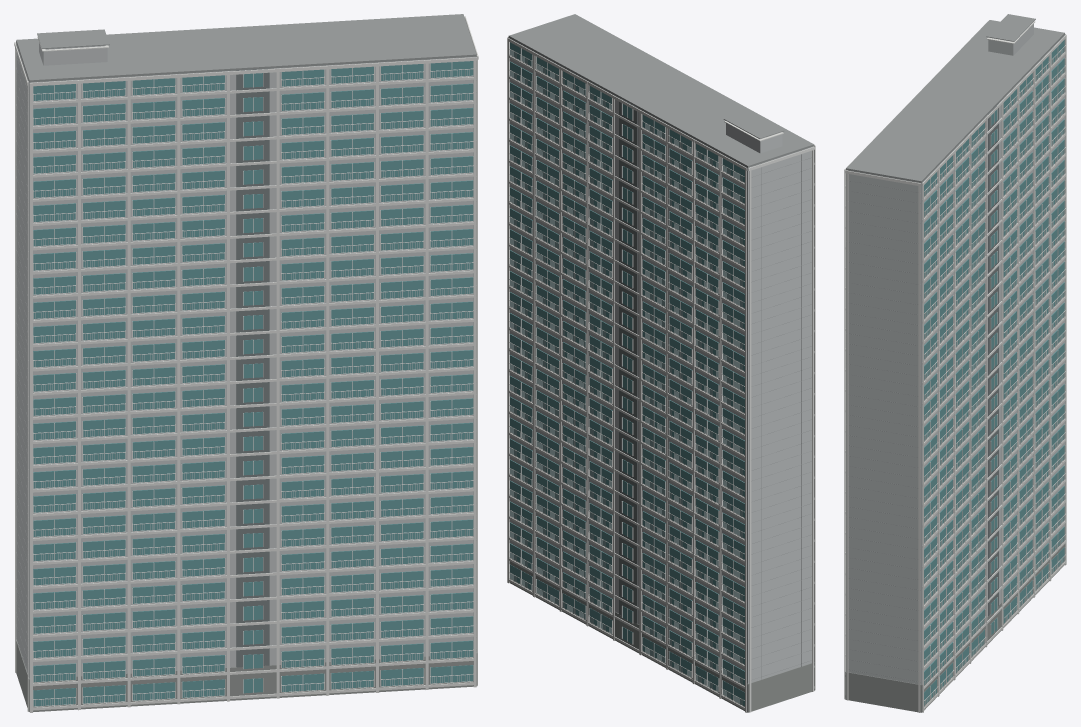
The model's file is bespoke-jamsil-ricenz-231.glb.
3 views of the same model, side by side, from view 1: azimuth 30°, elevation 25°; view 2: azimuth 150°, elevation 25°; view 3: azimuth 270°, elevation 25° (orthographic). The views are drawn at different scales.
Visible parts, largest first — view 1: Ricenz231_editable_Ricenz231_turquoise_balcony_glazing, Ricenz231_editable_Ricenz231_light_grey_solid_wall, Ricenz231_white_exact_chunk_1, Ricenz231_white_exact_chunk_3, Ricenz231_white_exact_chunk_0, Ricenz231_white_exact_chunk_2, Ricenz231_editable_Ricenz231_modest_grey_flat_roof_caps, Ricenz231_editable_Ricenz231_narrow_charcoal_service_strips, Ricenz231_editable_Ricenz231_muted_ground_wall; view 2: Ricenz231_editable_Ricenz231_turquoise_balcony_glazing, Ricenz231_editable_Ricenz231_light_grey_solid_wall, Ricenz231_white_exact_chunk_6, Ricenz231_white_exact_chunk_4, Ricenz231_white_exact_chunk_5, Ricenz231_editable_Ricenz231_modest_grey_flat_roof_caps, Ricenz231_white_exact_chunk_3, Ricenz231_editable_Ricenz231_narrow_charcoal_service_strips, Ricenz231_editable_Ricenz231_muted_ground_wall, Ricenz231_white_exact_chunk_0; view 3: Ricenz231_editable_Ricenz231_light_grey_solid_wall, Ricenz231_editable_Ricenz231_turquoise_balcony_glazing, Ricenz231_white_exact_chunk_6, Ricenz231_editable_Ricenz231_modest_grey_flat_roof_caps, Ricenz231_white_exact_chunk_4, Ricenz231_white_exact_chunk_3, Ricenz231_white_exact_chunk_5, Ricenz231_editable_Ricenz231_muted_ground_wall, Ricenz231_editable_Ricenz231_narrow_charcoal_service_strips.
Part boxes in pixels (<box>): Ricenz231_editable_Ricenz231_turquoise_balcony_glazing: <box>33,61,473,706</box>; Ricenz231_editable_Ricenz231_light_grey_solid_wall: <box>16,42,476,678</box>; Ricenz231_white_exact_chunk_1: <box>130,73,326,701</box>; Ricenz231_white_exact_chunk_3: <box>29,16,478,712</box>; Ricenz231_white_exact_chunk_0: <box>14,42,177,711</box>; Ricenz231_white_exact_chunk_2: <box>279,64,473,693</box>; Ricenz231_editable_Ricenz231_modest_grey_flat_roof_caps: <box>16,14,476,675</box>; Ricenz231_editable_Ricenz231_narrow_charcoal_service_strips: <box>236,68,269,667</box>; Ricenz231_editable_Ricenz231_muted_ground_wall: <box>16,639,477,711</box>; Ricenz231_editable_Ricenz231_turquoise_balcony_glazing: <box>510,42,744,706</box>; Ricenz231_editable_Ricenz231_light_grey_solid_wall: <box>509,38,814,683</box>; Ricenz231_white_exact_chunk_6: <box>507,38,783,712</box>; Ricenz231_white_exact_chunk_4: <box>536,62,665,666</box>; Ricenz231_white_exact_chunk_5: <box>641,114,719,695</box>; Ricenz231_editable_Ricenz231_modest_grey_flat_roof_caps: <box>508,14,814,680</box>; Ricenz231_white_exact_chunk_3: <box>507,36,815,690</box>; Ricenz231_editable_Ricenz231_narrow_charcoal_service_strips: <box>619,98,637,623</box>; Ricenz231_editable_Ricenz231_muted_ground_wall: <box>509,558,814,712</box>; Ricenz231_white_exact_chunk_0: <box>748,146,815,712</box>; Ricenz231_editable_Ricenz231_light_grey_solid_wall: <box>846,24,1064,684</box>; Ricenz231_editable_Ricenz231_turquoise_balcony_glazing: <box>924,40,1064,705</box>; Ricenz231_white_exact_chunk_6: <box>922,21,1066,712</box>; Ricenz231_editable_Ricenz231_modest_grey_flat_roof_caps: <box>846,14,1064,682</box>; Ricenz231_white_exact_chunk_4: <box>940,109,1018,676</box>; Ricenz231_white_exact_chunk_3: <box>844,21,987,712</box>; Ricenz231_white_exact_chunk_5: <box>1003,72,1049,610</box>; Ricenz231_editable_Ricenz231_muted_ground_wall: <box>845,540,1064,712</box>; Ricenz231_editable_Ricenz231_narrow_charcoal_service_strips: <box>988,103,998,616</box>.
Bounding box in the file's own units: 51.07 × 79.93 × 29.45.
